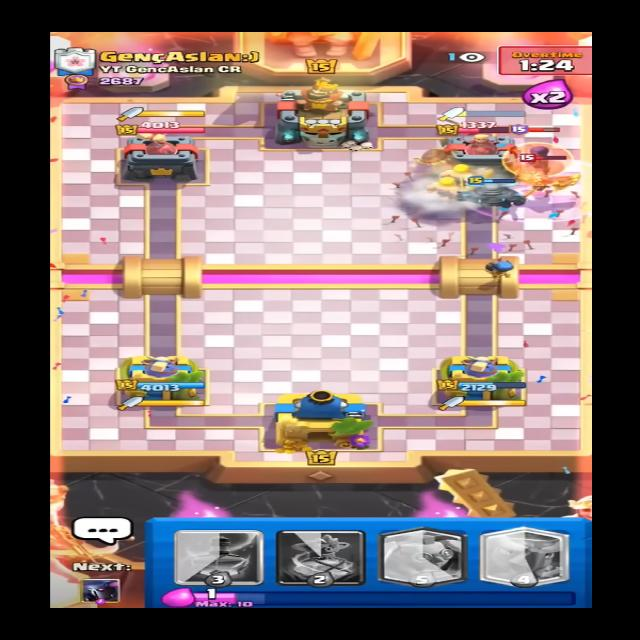arrows: (368, 167, 596, 255)
evo-wizard: (498, 133, 577, 179)
phoenix: (488, 153, 582, 202)
